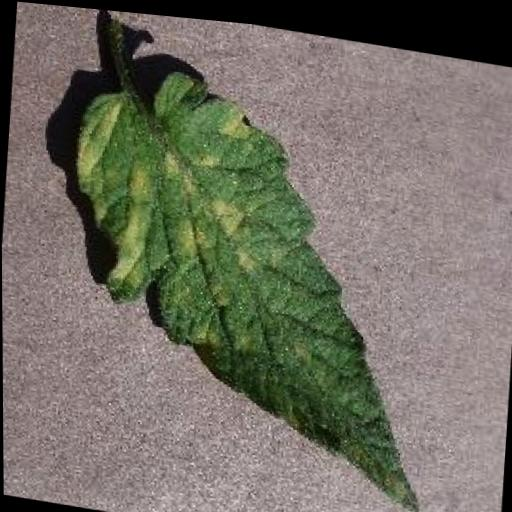Leaf Mold: (55, 54, 447, 509)
